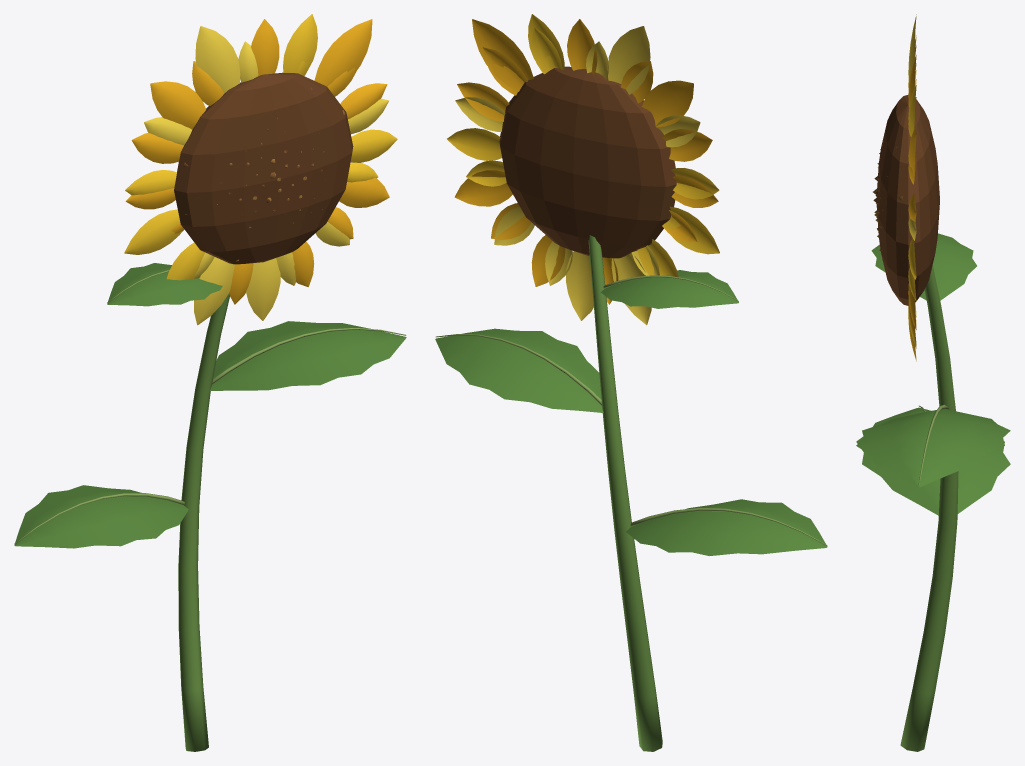
The model's file is sunflower-test-bloom-0-3.glb.
The picture shows the model from 3 angles, left to right: view 1: azimuth 30°, elevation 25°; view 2: azimuth 150°, elevation 25°; view 3: azimuth 270°, elevation 25°; orthographic projection. The views are drawn at different scales.
Parts seen in each view (by area): view 1: Curved tapered stem; view 2: Curved tapered stem; view 3: Curved tapered stem.
Boxes of the visible parts, x1,y1,x2,y2 form: Curved tapered stem: (14, 14, 406, 751); Curved tapered stem: (435, 14, 827, 751); Curved tapered stem: (856, 14, 1010, 751).
Bounding box in the file's own units: 0.3333 × 0.5866 × 0.1116.
